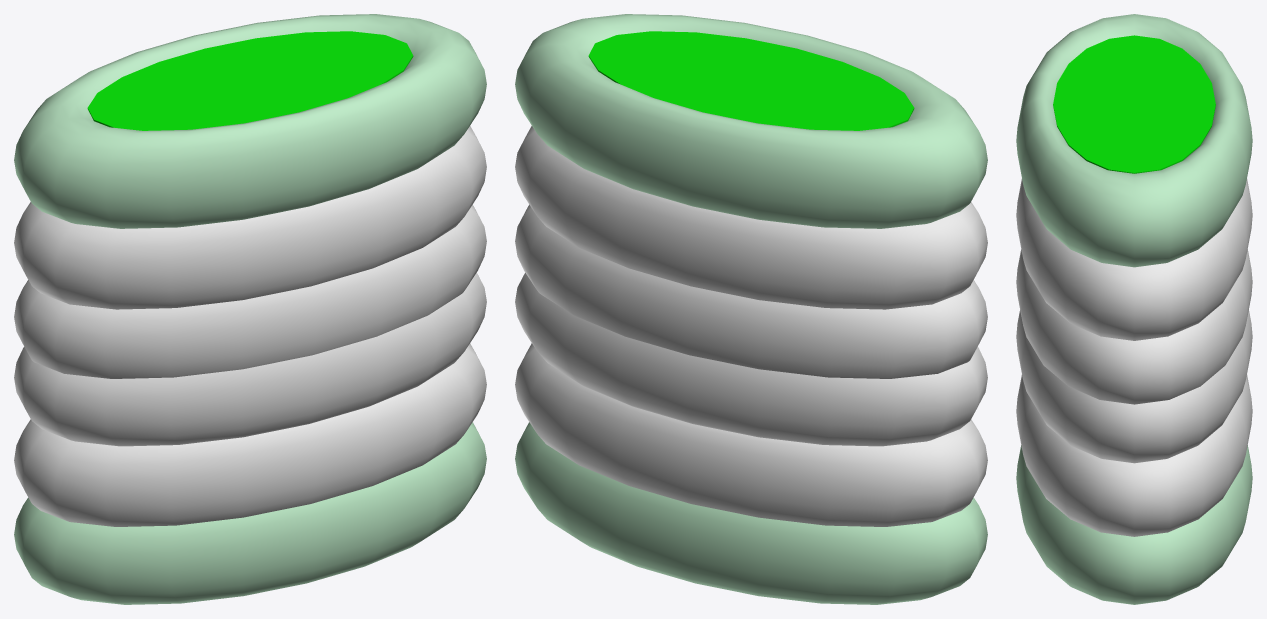
Rendered from ConcretePipe.fbx.
3 views of the same model, side by side, from view 1: azimuth 30°, elevation 25°; view 2: azimuth 150°, elevation 25°; view 3: azimuth 270°, elevation 25° (orthographic). The views are drawn at different scales.
Parts seen in each view (by area): view 1: pCylinder2; view 2: pCylinder2; view 3: pCylinder2.
Boxes of the visible parts, <box> form: pCylinder2: <box>14,14,486,604</box>; pCylinder2: <box>515,14,987,604</box>; pCylinder2: <box>1016,14,1252,604</box>.
Bounding box in the file's own units: 3.82 × 3.77 × 1.91.
